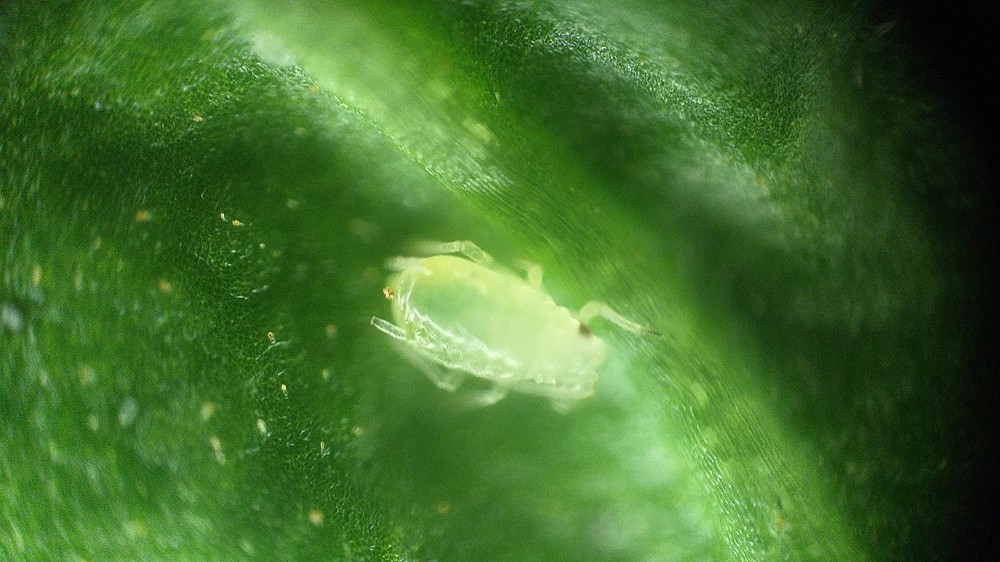Pulgon: (339, 225, 673, 456)
